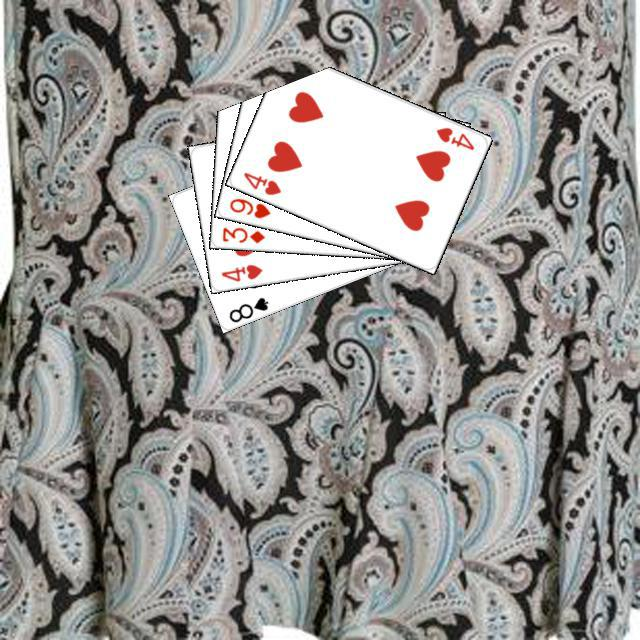3d: (218, 222, 266, 245)
4h: (431, 122, 476, 152), (239, 167, 283, 197), (216, 259, 264, 283)
8s: (224, 292, 270, 324)
9h: (224, 193, 272, 220)
